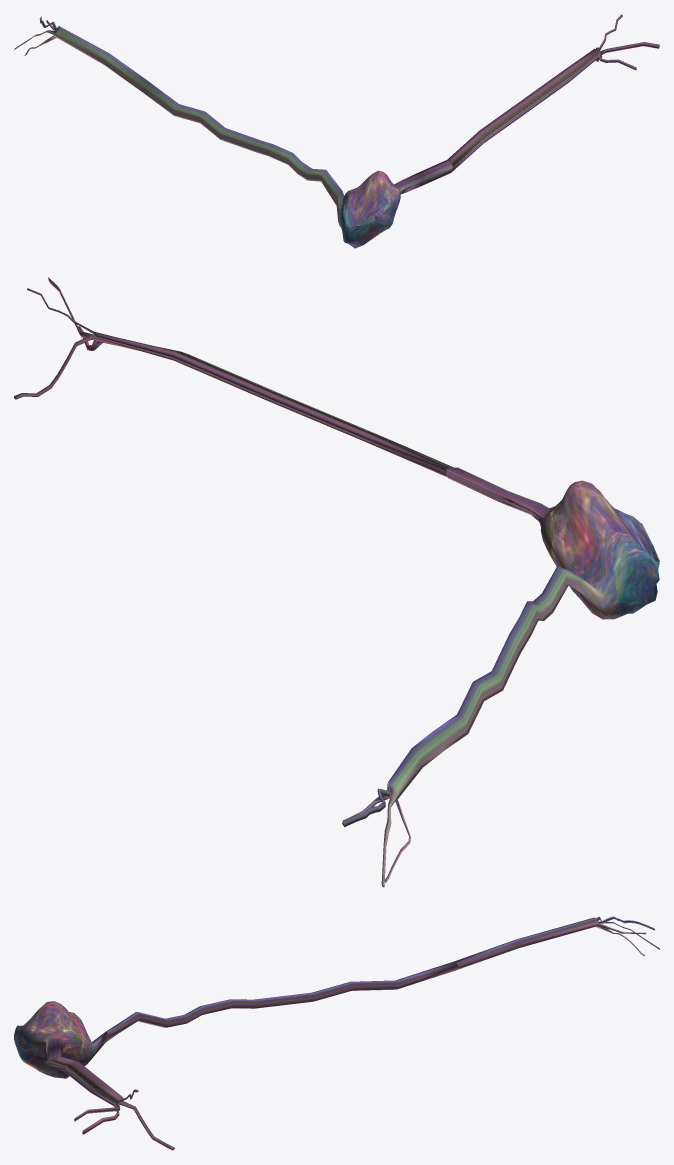
Rendered from lastneuron10.fbx.
The picture shows the model from 3 angles, top to bottom: view 1: azimuth 30°, elevation 25°; view 2: azimuth 150°, elevation 25°; view 3: azimuth 270°, elevation 25°; orthographic projection. The views are drawn at different scales.
Parts seen in each view (by area): view 1: done2 duplicted ex; view 2: done2 duplicted ex; view 3: done2 duplicted ex.
Boxes of the visible parts, <box> form: done2 duplicted ex: <box>14,14,659,248</box>; done2 duplicted ex: <box>14,277,659,887</box>; done2 duplicted ex: <box>14,916,659,1150</box>.
Bounding box in the file's own units: 42089 × 12944 × 44274.
